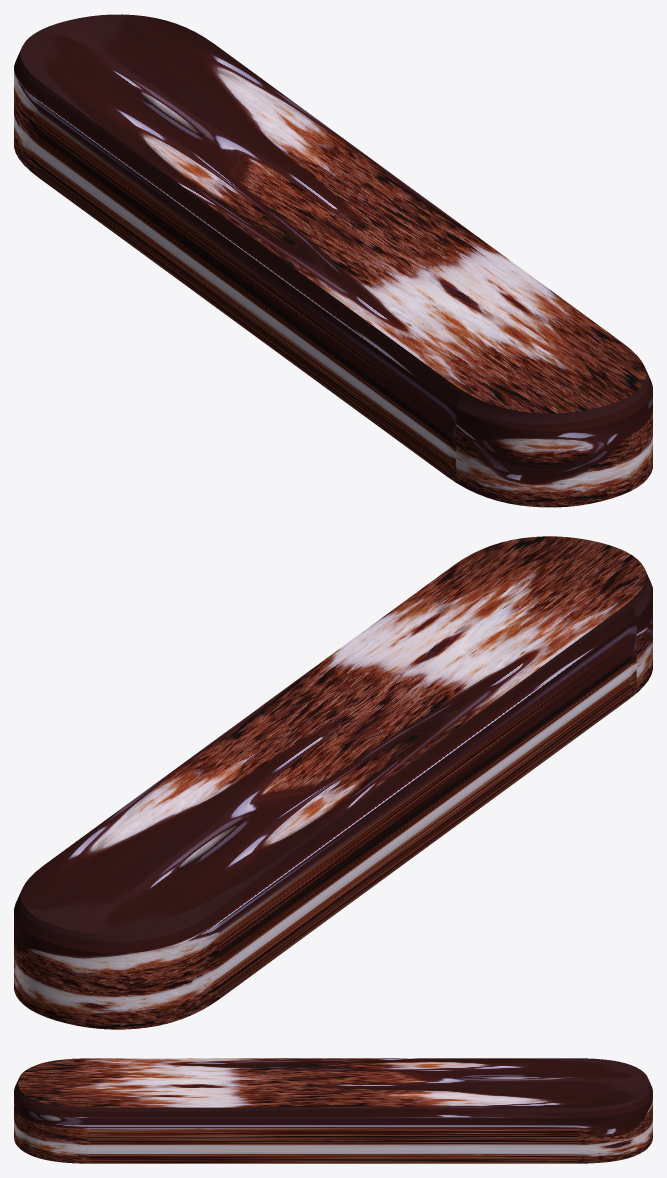
Rendered from myIn 1.FBX.
The picture shows the model from 3 angles, top to bottom: view 1: azimuth 30°, elevation 25°; view 2: azimuth 150°, elevation 25°; view 3: azimuth 270°, elevation 25°; orthographic projection. The views are drawn at different scales.
Parts seen in each view (by area): view 1: myB; view 2: myB; view 3: myB.
Part boxes in pixels (x1=…): myB: x1=14, y1=14, x2=652, y2=507; myB: x1=14, y1=536, x2=652, y2=1029; myB: x1=14, y1=1058, x2=652, y2=1163.
Size of the model in its own units: 12.5 by 6 by 64.
